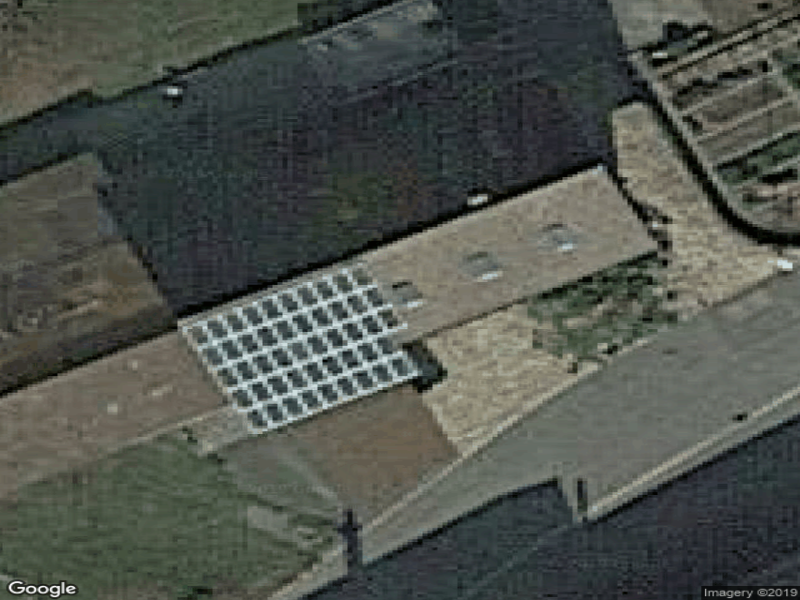pv: (187, 264, 420, 433)
